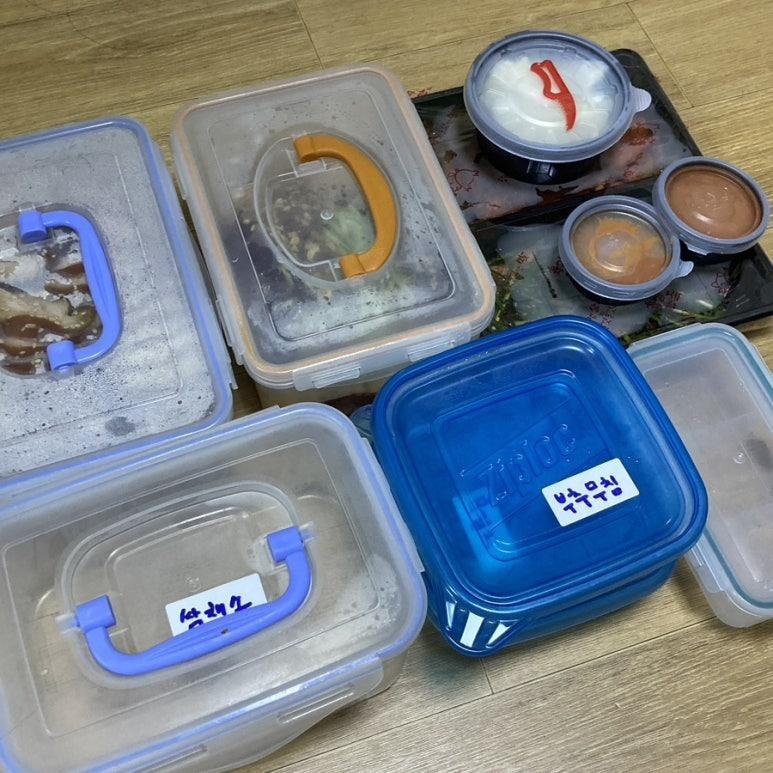Lunch Box: (0, 404, 425, 772), (371, 316, 707, 654), (173, 65, 493, 401), (414, 50, 772, 344), (0, 118, 232, 505), (629, 323, 772, 626)
cup: (463, 31, 650, 182), (558, 196, 692, 303), (653, 156, 769, 256)
